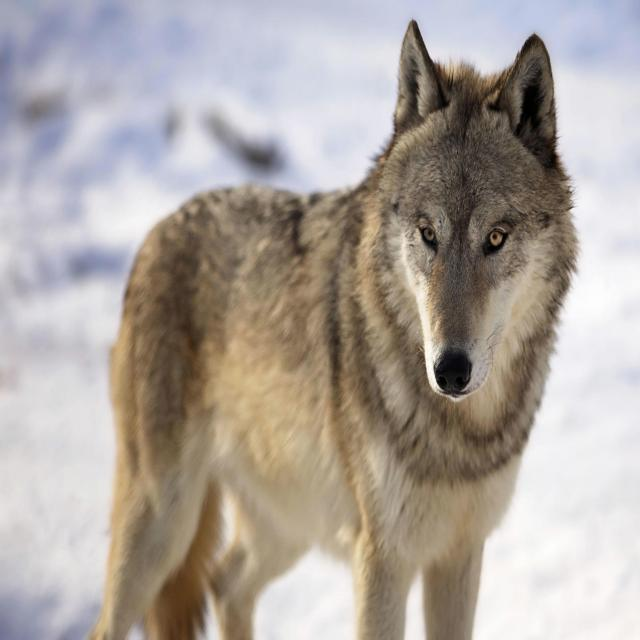wolf: (90, 20, 578, 640)
